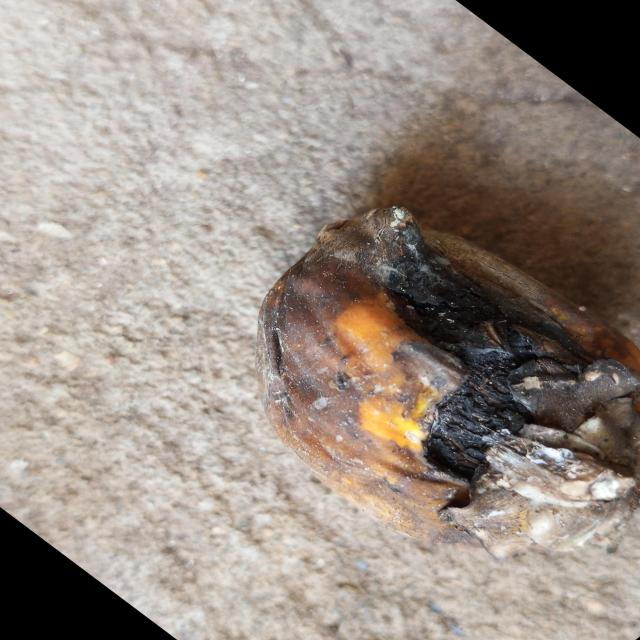damaged: (258, 207, 640, 558)
